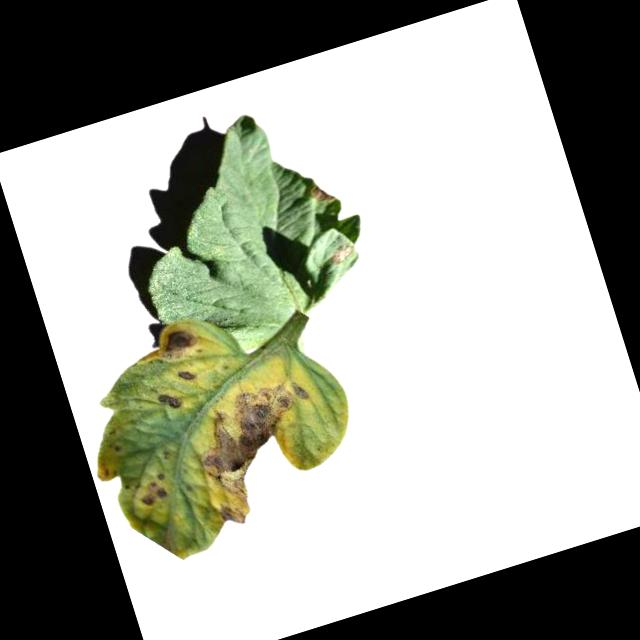Early_blight: (178, 368, 342, 532), (152, 323, 200, 360), (134, 470, 172, 507), (305, 178, 336, 207), (324, 240, 356, 265), (155, 385, 181, 412), (173, 362, 194, 383)
